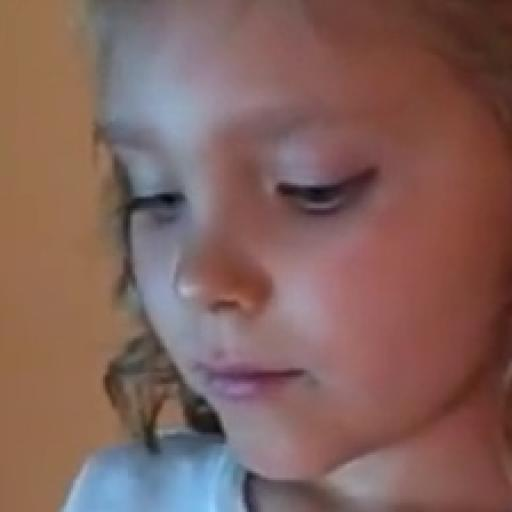Autism: (80, 0, 512, 462)
